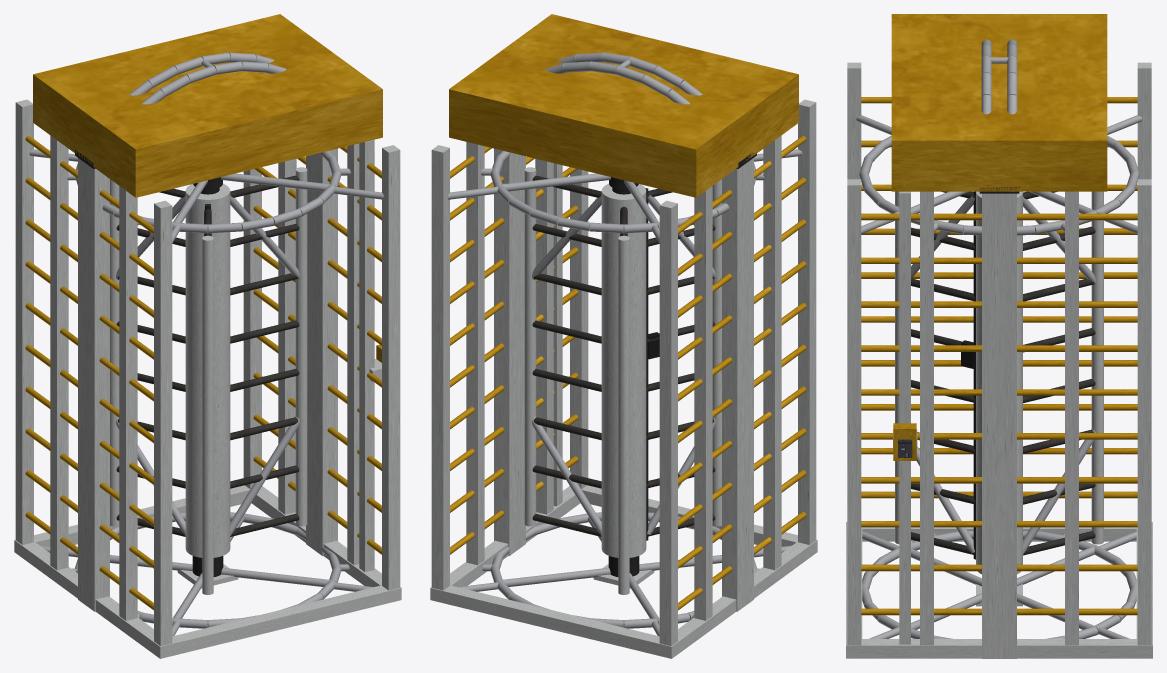
The model's file is pictureX_0611_full_height_turnstile__0425.glb.
3 renders of one model, left to right at view 1: azimuth 30°, elevation 25°; view 2: azimuth 150°, elevation 25°; view 3: azimuth 270°, elevation 25°, orthographic. The views are drawn at different scales.
Parts seen in each view (by area): view 1: guard_frame::header_form__arched_header__housing_slab, guard_frame::header_form__arched_header__arch_post_0, rotor::rotor__hub_drum, guard_frame::header_form__arched_header__arch_post_1, guard_frame::guard_frame__barred_portal_frame__post_0, guard_frame::guard_frame__barred_portal_frame__post_5, guard_frame::guard_frame__barred_portal_frame__post_4, guard_frame::guard_frame__barred_portal_frame__post_1, guard_frame::guard_frame__barred_portal_frame__post_3, guard_frame::guard_frame__access_strap, guard_frame::guard_frame__barred_portal_frame__post_6, guard_frame::guard_frame__barred_portal_frame__post_8 (+22 smaller); view 2: guard_frame::header_form__arched_header__housing_slab, guard_frame::header_form__arched_header__arch_post_0, rotor::rotor__hub_drum, guard_frame::header_form__arched_header__arch_post_1, guard_frame::guard_frame__barred_portal_frame__post_4, guard_frame::guard_frame__barred_portal_frame__post_9, guard_frame::guard_frame__barred_portal_frame__post_0, guard_frame::guard_frame__barred_portal_frame__post_3, guard_frame::guard_frame__barred_portal_frame__post_1, guard_frame::guard_frame__barred_portal_frame__post_8, guard_frame::guard_frame__barred_portal_frame__post_6, guard_frame::guard_frame__barred_portal_frame__threshold_1 (+23 smaller); view 3: guard_frame::header_form__arched_header__housing_slab, guard_frame::header_form__arched_header__arch_post_1, guard_frame::guard_frame__barred_portal_frame__post_5, guard_frame::guard_frame__barred_portal_frame__post_9, guard_frame::guard_frame__barred_portal_frame__post_6, guard_frame::guard_frame__barred_portal_frame__post_8, guard_frame::guard_frame__barred_portal_frame__base_rail_1, guard_frame::guard_frame__access_strap, rotor::rotor__hub_drum, rotor::rotor_form__braced_arm_rotor__wing_post_1, second_mechanism__emergency_breakaway_wing__wing::rotor_form (×3), guard_frame::guard_frame__barred_portal_frame__post_0 (+26 smaller).
Part boxes in pixels (x1,y1,x2,y2): guard_frame::header_form__arched_header__housing_slab: (33,14,382,197); guard_frame::header_form__arched_header__arch_post_0: (78,158,109,611); rotor::rotor__hub_drum: (185,183,230,557); guard_frame::header_form__arched_header__arch_post_1: (306,148,337,555); guard_frame::guard_frame__barred_portal_frame__post_0: (154,200,172,645); guard_frame::guard_frame__barred_portal_frame__post_5: (382,145,400,590); guard_frame::guard_frame__barred_portal_frame__post_4: (15,99,33,544); guard_frame::guard_frame__barred_portal_frame__post_1: (119,186,137,620); guard_frame::guard_frame__barred_portal_frame__post_3: (50,135,68,570); guard_frame::guard_frame__access_strap: (359,140,374,571); guard_frame::guard_frame__barred_portal_frame__post_6: (347,143,359,565); guard_frame::guard_frame__barred_portal_frame__post_8: (278,158,296,514); guard_frame::header_form__arched_header__housing_slab: (449,14,798,197); guard_frame::header_form__arched_header__arch_post_0: (722,158,753,611); rotor::rotor__hub_drum: (601,183,646,557); guard_frame::header_form__arched_header__arch_post_1: (494,148,525,555); guard_frame::guard_frame__barred_portal_frame__post_4: (659,200,677,645); guard_frame::guard_frame__barred_portal_frame__post_9: (431,145,449,590); guard_frame::guard_frame__barred_portal_frame__post_0: (798,99,816,544); guard_frame::guard_frame__barred_portal_frame__post_3: (694,186,712,620); guard_frame::guard_frame__barred_portal_frame__post_1: (763,135,781,570); guard_frame::guard_frame__barred_portal_frame__post_8: (466,142,484,565); guard_frame::guard_frame__barred_portal_frame__post_6: (535,158,553,514); guard_frame::guard_frame__barred_portal_frame__threshold_1: (437,585,664,657); guard_frame::header_form__arched_header__housing_slab: (891,14,1107,191); guard_frame::header_form__arched_header__arch_post_1: (982,193,1016,658); guard_frame::guard_frame__barred_portal_frame__post_5: (847,179,861,645); guard_frame::guard_frame__barred_portal_frame__post_9: (1137,179,1151,645); guard_frame::guard_frame__barred_portal_frame__post_6: (920,191,933,645); guard_frame::guard_frame__barred_portal_frame__post_8: (1065,191,1078,645); guard_frame::guard_frame__barred_portal_frame__base_rail_1: (846,639,1152,658); guard_frame::guard_frame__access_strap: (899,191,910,644); rotor::rotor__hub_drum: (976,191,1022,574); rotor::rotor_form__braced_arm_rotor__wing_post_1: (1091,191,1103,544); second_mechanism__emergency_breakaway_wing__wing::rotor_form (×3): (895,191,974,553); guard_frame::guard_frame__barred_portal_frame__post_0: (847,62,861,179).
Size of the model in its own units: 1.38 by 2.56 by 1.31.
Materials: 7 (6 with a texture image).
